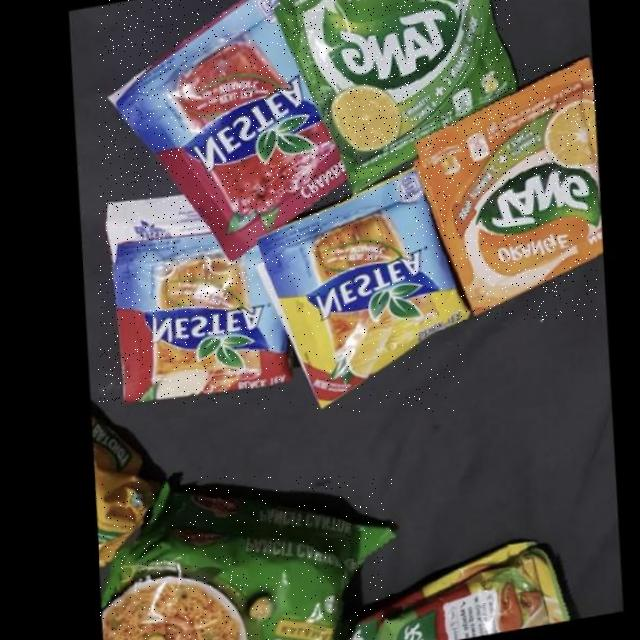wrapper: (98, 0, 339, 264), (249, 173, 463, 412), (407, 64, 597, 320), (265, 0, 510, 198), (99, 476, 394, 640), (99, 196, 287, 404)
